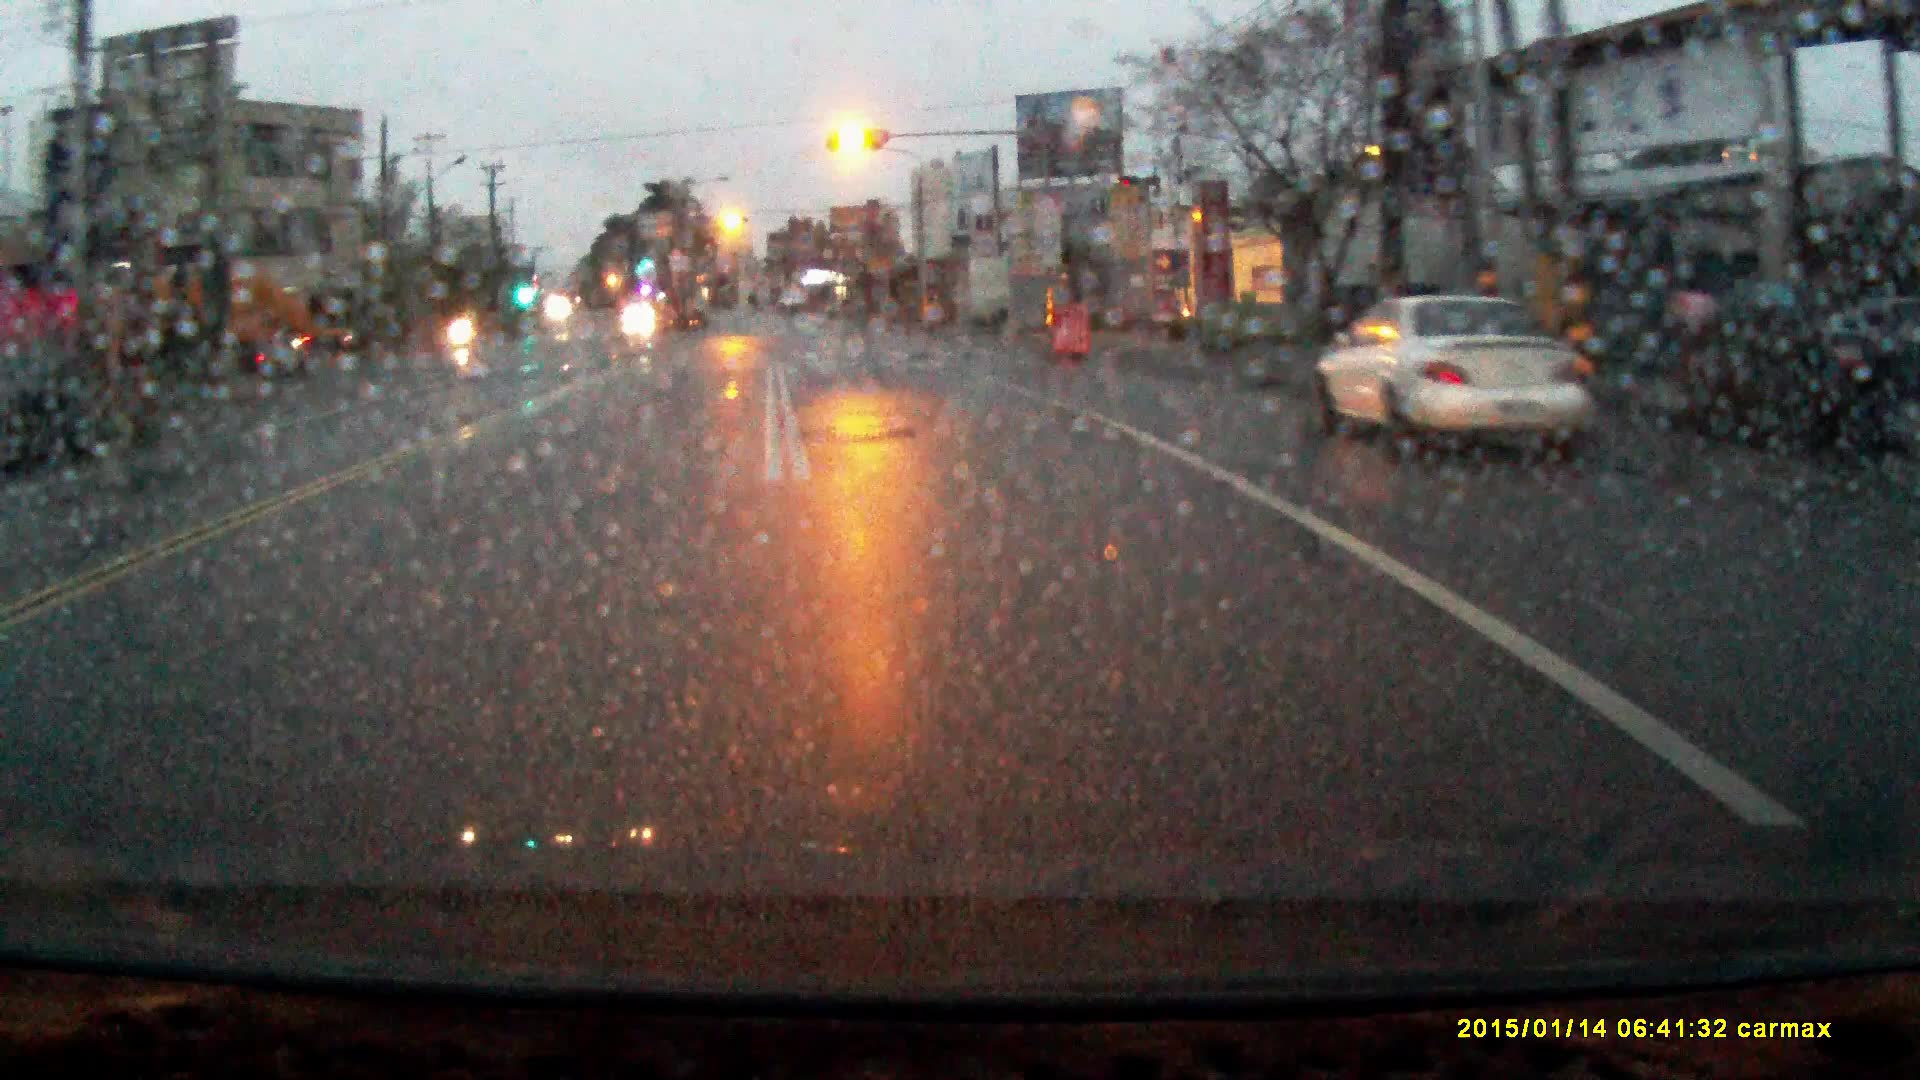rider: (449, 294, 479, 349)
vehicle: (1317, 296, 1613, 459), (125, 260, 362, 359), (1, 345, 130, 465), (621, 302, 656, 334)
